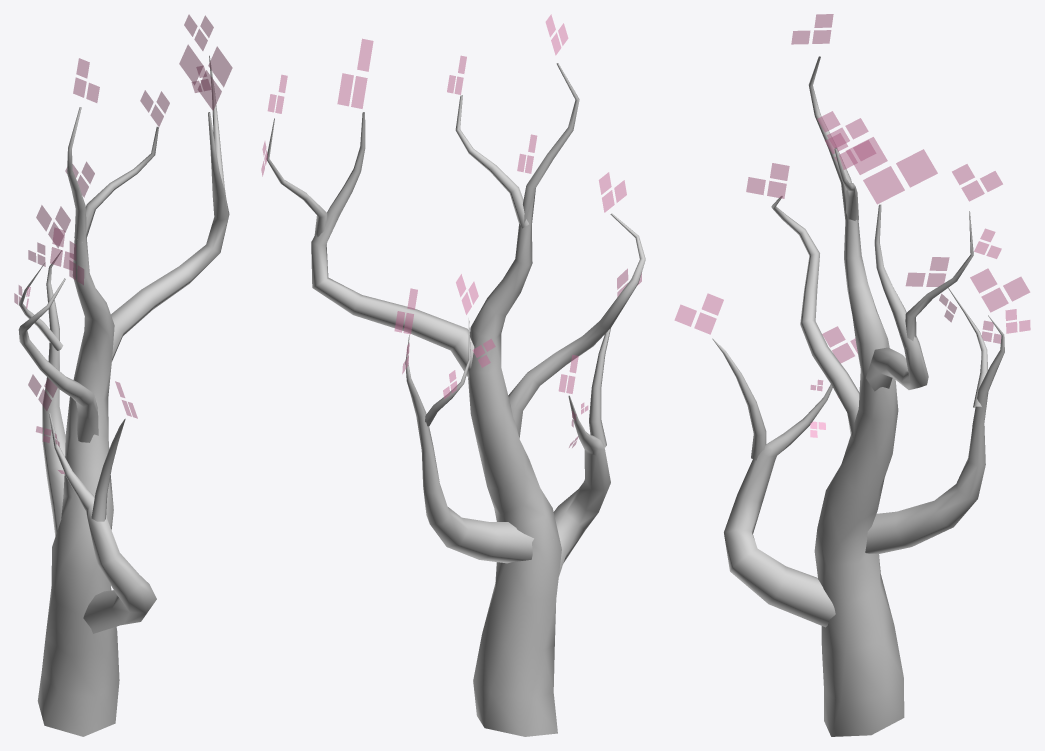
Rendered from deep plant6.fbx.
The picture shows the model from 3 angles, left to right: view 1: azimuth 30°, elevation 25°; view 2: azimuth 150°, elevation 25°; view 3: azimuth 270°, elevation 25°; orthographic projection. The views are drawn at different scales.
Visible parts, largest first — view 1: BezierCurve_002, Plane_034; view 2: BezierCurve_002, Plane_034; view 3: BezierCurve_002, Plane_034.
Boxes of the visible parts, box(x1,y1,x2,y2) form: BezierCurve_002: box(18, 55, 229, 736); Plane_034: box(14, 14, 232, 473); BezierCurve_002: box(266, 63, 645, 736); Plane_034: box(261, 14, 641, 447); BezierCurve_002: box(712, 56, 1004, 736); Plane_034: box(674, 14, 1030, 437).
Bounding box in the file's own units: 4.09 × 9.57 × 4.36.
